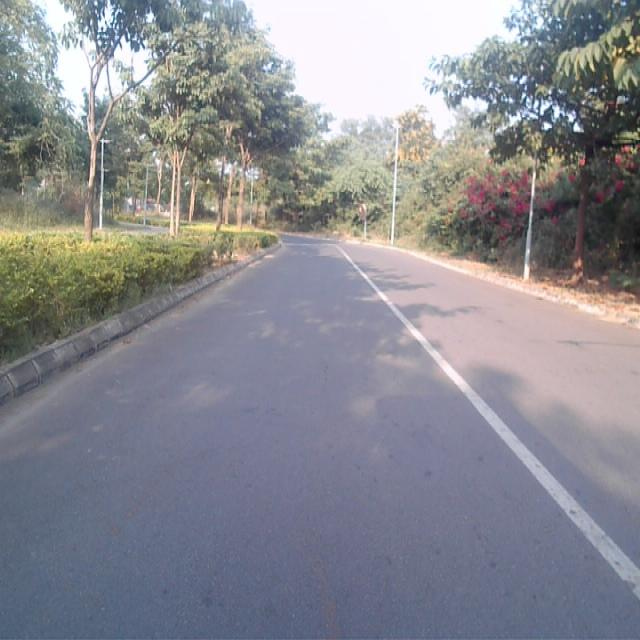lane: (0, 244, 640, 640)
